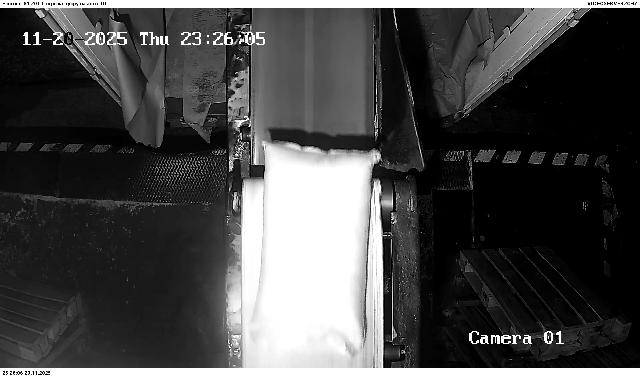bag: (249, 139, 382, 353)
